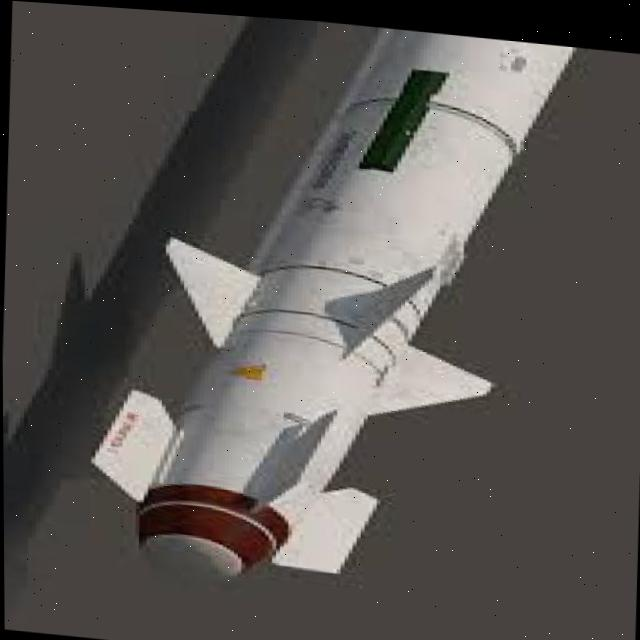missile: (77, 4, 581, 604)
